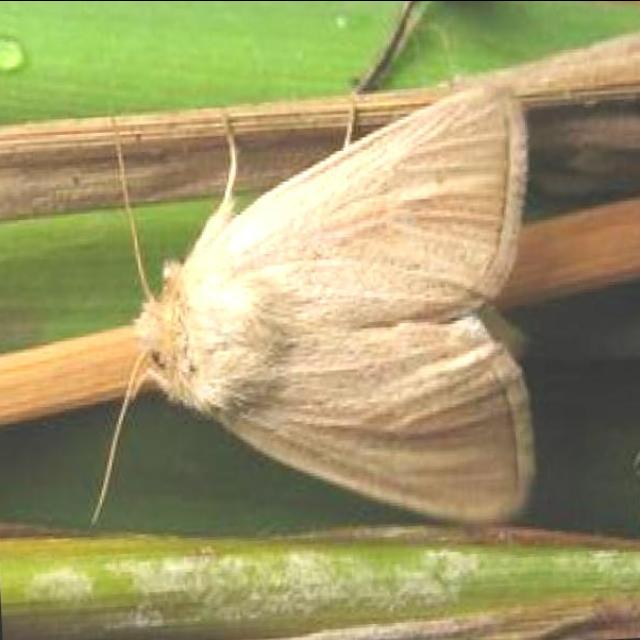stem borer: (92, 64, 558, 522)
